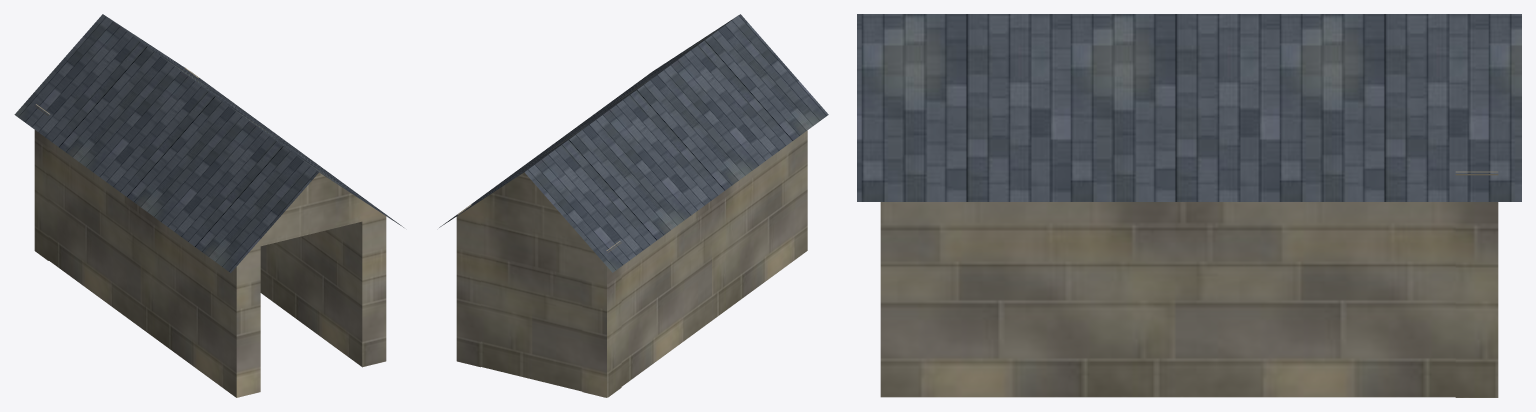
The model's file is fort-cellar-stair.zfix-v11.lod1.glb.
The picture shows the model from 3 angles, left to right: view 1: azimuth 30°, elevation 25°; view 2: azimuth 150°, elevation 25°; view 3: azimuth 270°, elevation 25°; orthographic projection. The views are drawn at different scales.
Parts seen in each view (by area): view 1: fort-cellar-stair; view 2: fort-cellar-stair; view 3: fort-cellar-stair.
Boxes of the visible parts, bbox=[...] form: fort-cellar-stair: bbox=[14, 14, 403, 397]; fort-cellar-stair: bbox=[439, 14, 828, 397]; fort-cellar-stair: bbox=[857, 14, 1521, 397].
Bounding box in the file's own units: 3.3 × 3.8 × 7.
Materials: 3 (3 with a texture image).
